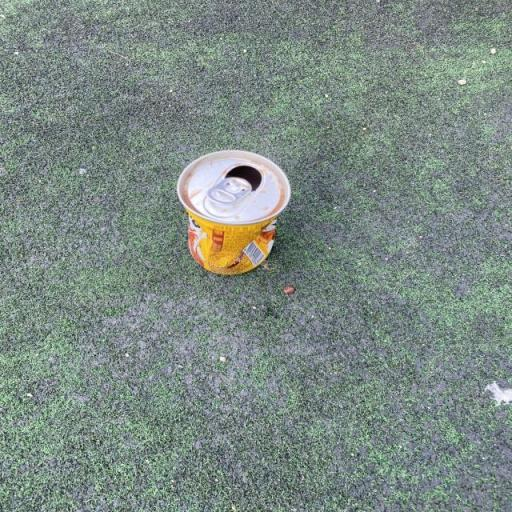metal: (126, 128, 322, 321)
